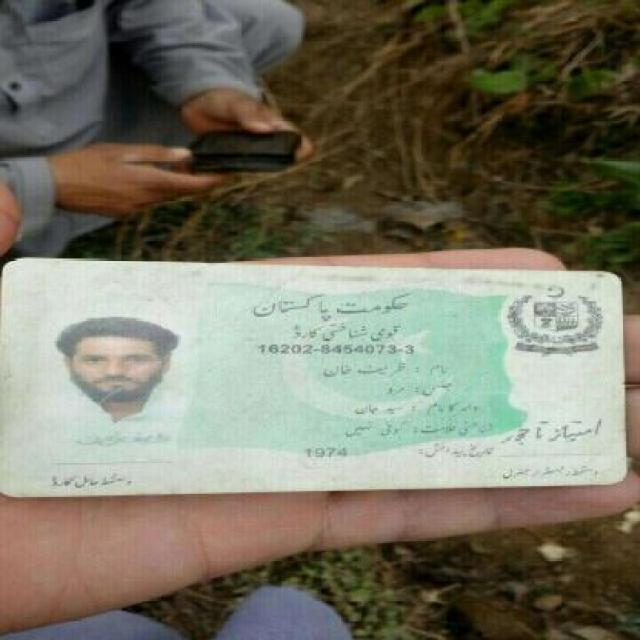Front: (3, 242, 635, 498)
